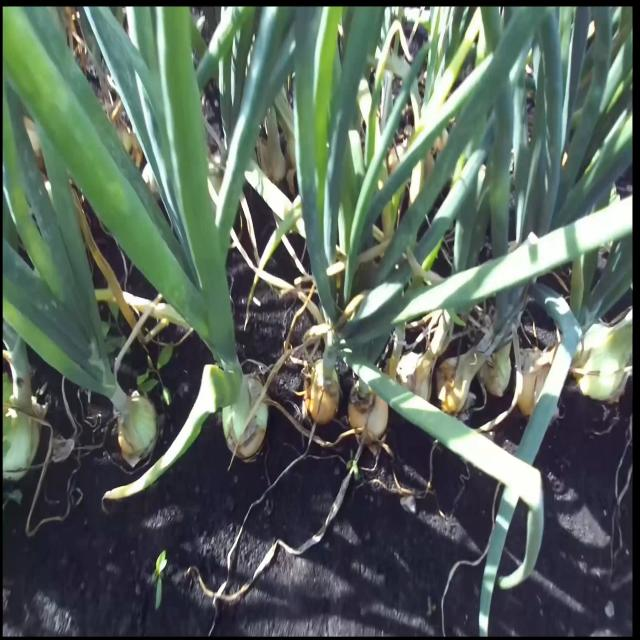onion: (222, 373, 269, 462), (579, 325, 627, 400), (116, 389, 158, 469), (3, 400, 45, 480), (347, 382, 389, 451), (303, 359, 342, 426), (518, 349, 556, 416), (396, 353, 431, 412), (438, 358, 472, 414), (480, 341, 511, 401)
